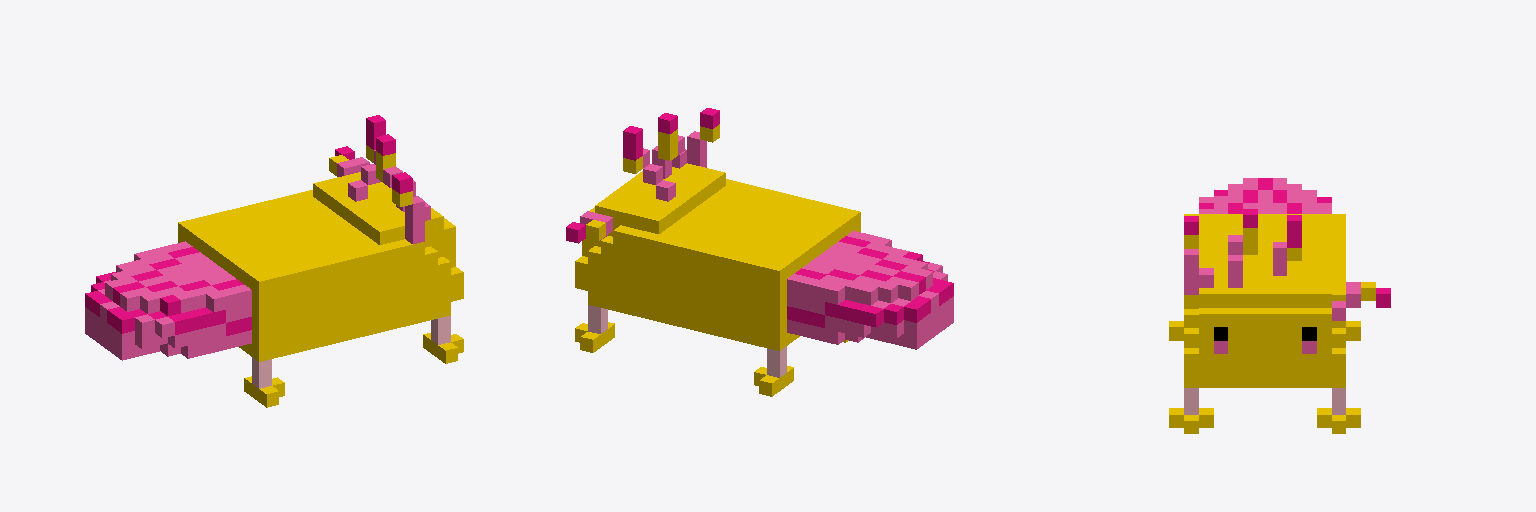
3 renders of one model, left to right at view 1: azimuth 30°, elevation 25°; view 2: azimuth 150°, elevation 25°; view 3: azimuth 270°, elevation 25°, orthographic.
Visible parts, largest first — view 1: object 1; view 2: object 1; view 3: object 1.
Part boxes in pixels (bbox=[...]): object 1: bbox=[85, 115, 463, 407]; object 1: bbox=[566, 108, 953, 396]; object 1: bbox=[1169, 178, 1390, 433].
Bounding box in the file's own units: 2.5 × 1.5 × 1.5.
Materials: 1 (1 with a texture image).